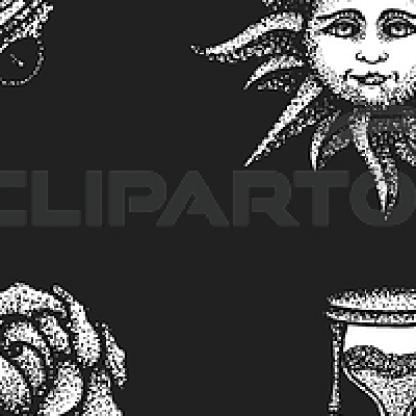gun: (0, 0, 160, 214)
